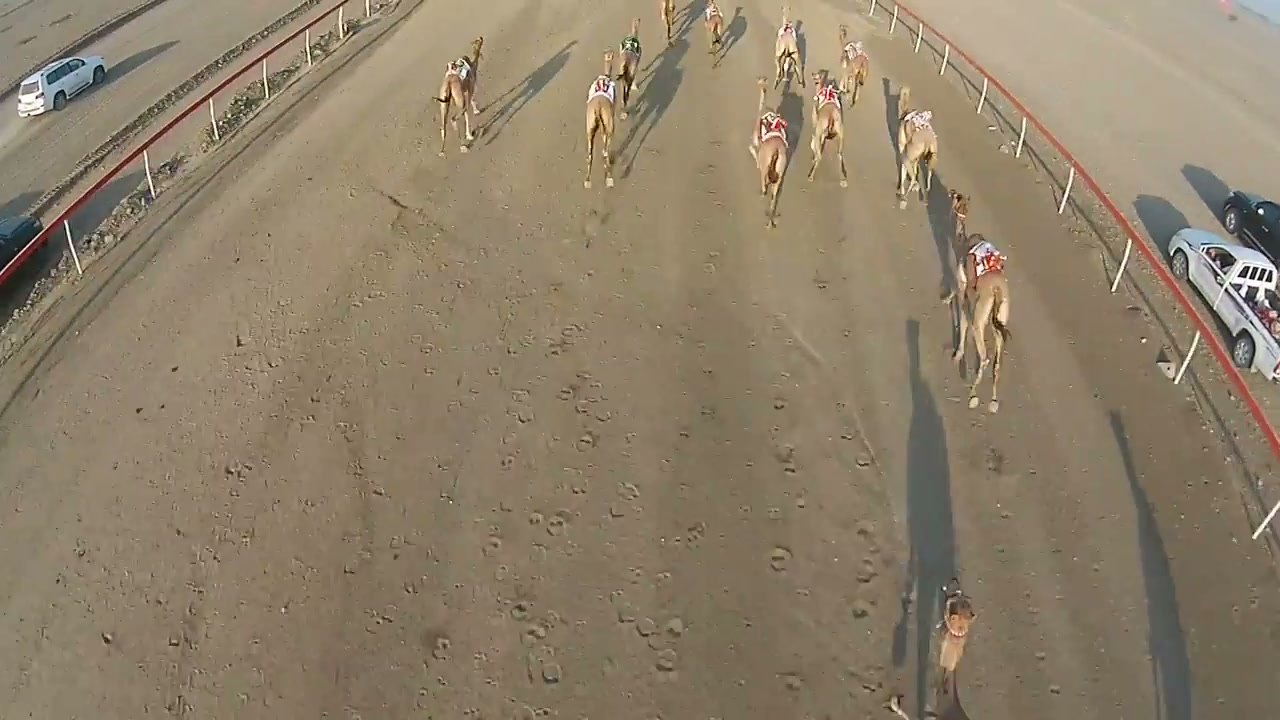animal_footprint: (422, 237, 911, 709), (126, 187, 455, 718)
